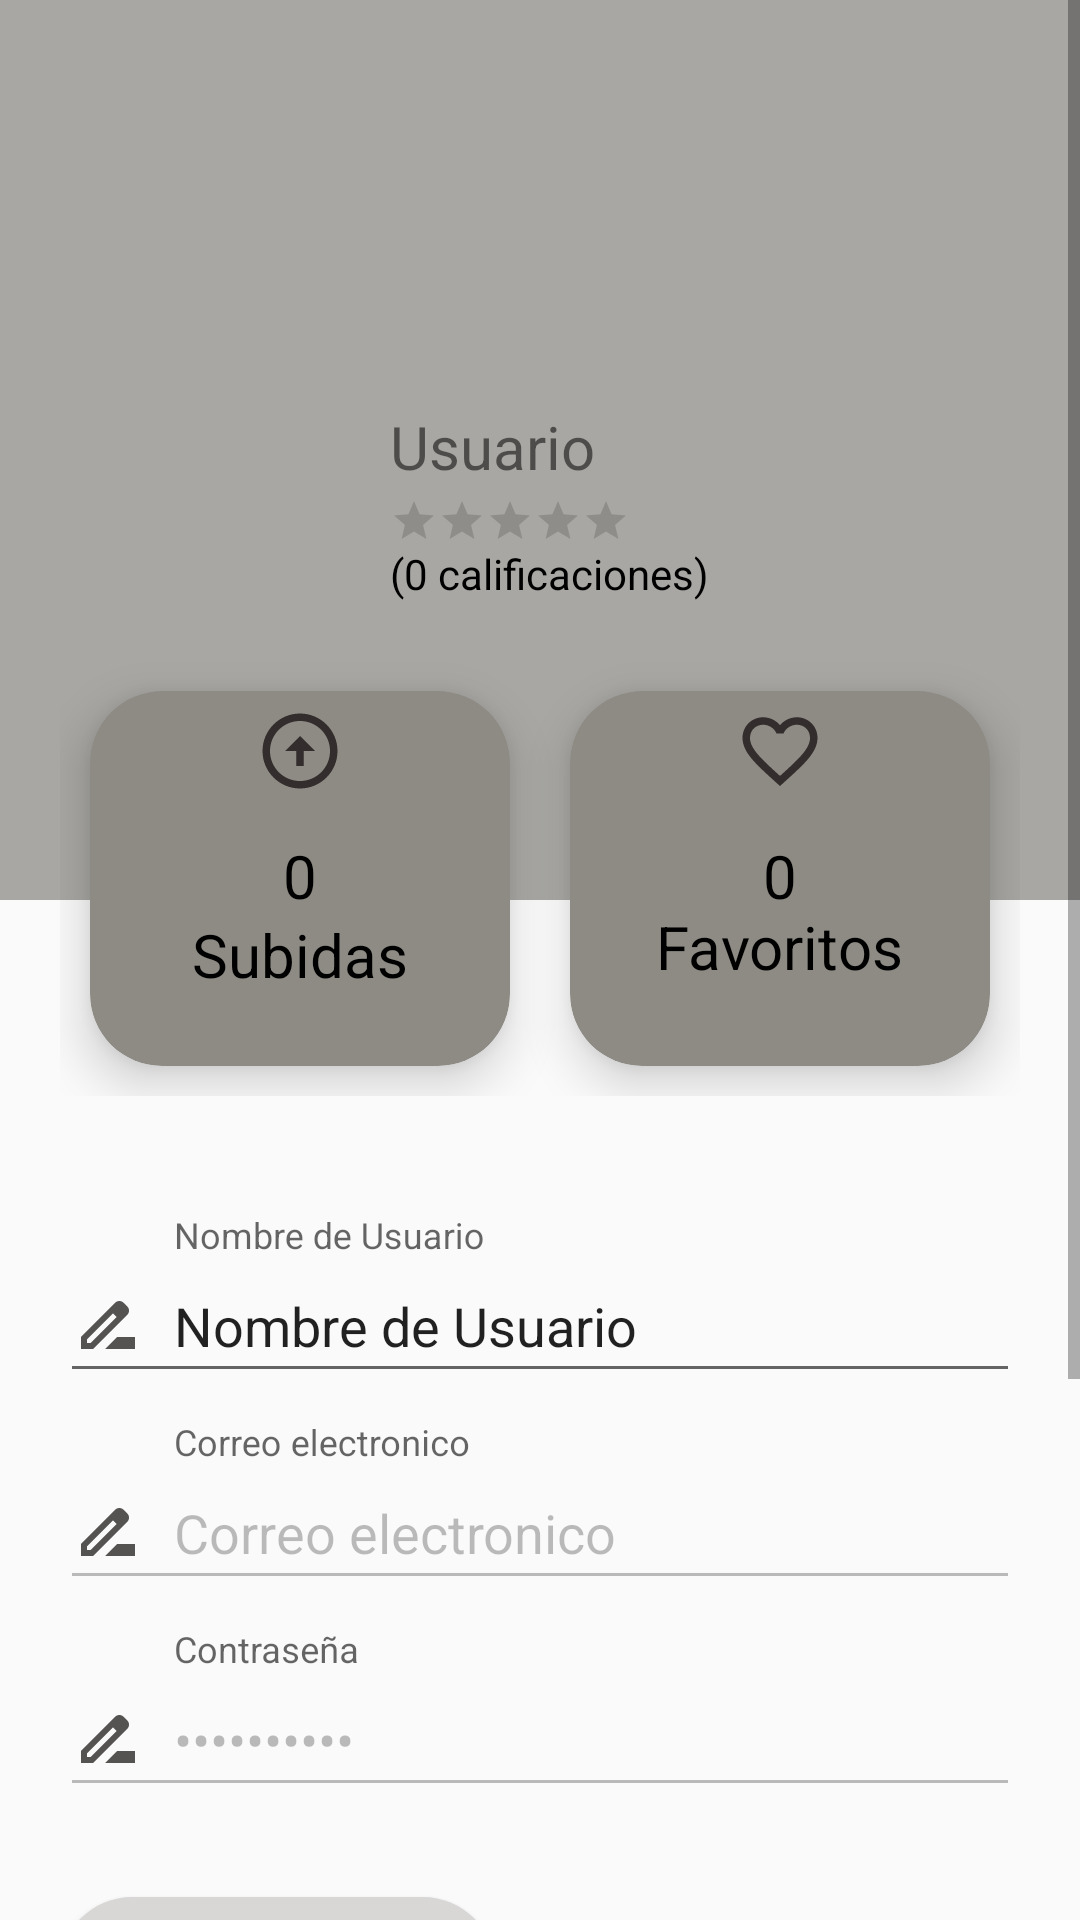

Icons on this 1080x1920 Android screen, each with its box as [left=x1, top=y1, right=x2, bottom=y2]:
arrow circle up: [left=262, top=713, right=338, bottom=789]
favorite border: [left=742, top=717, right=818, bottom=786]
